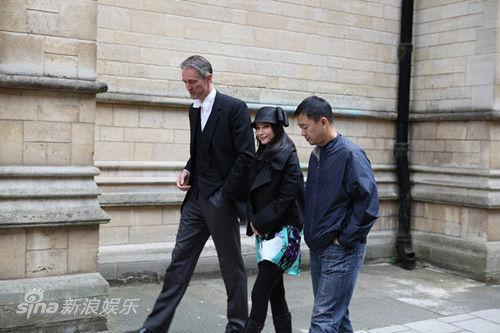up: (123, 53, 254, 332), (291, 92, 383, 332), (243, 104, 304, 330)
